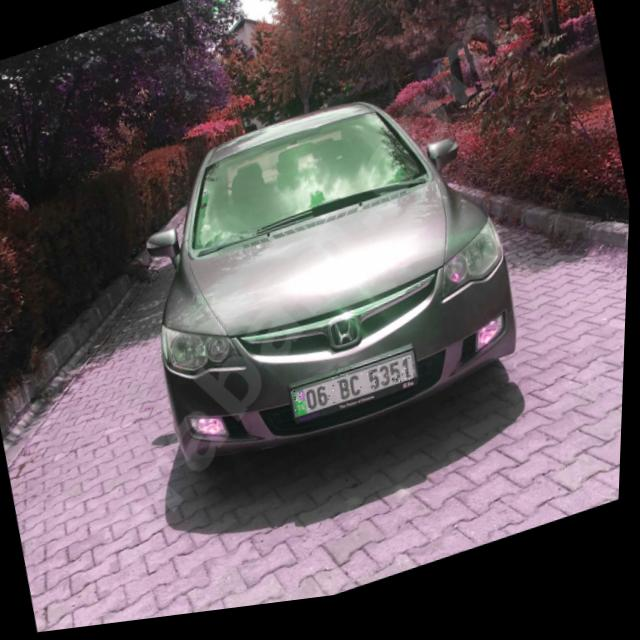license_plate: (292, 360, 422, 426)
